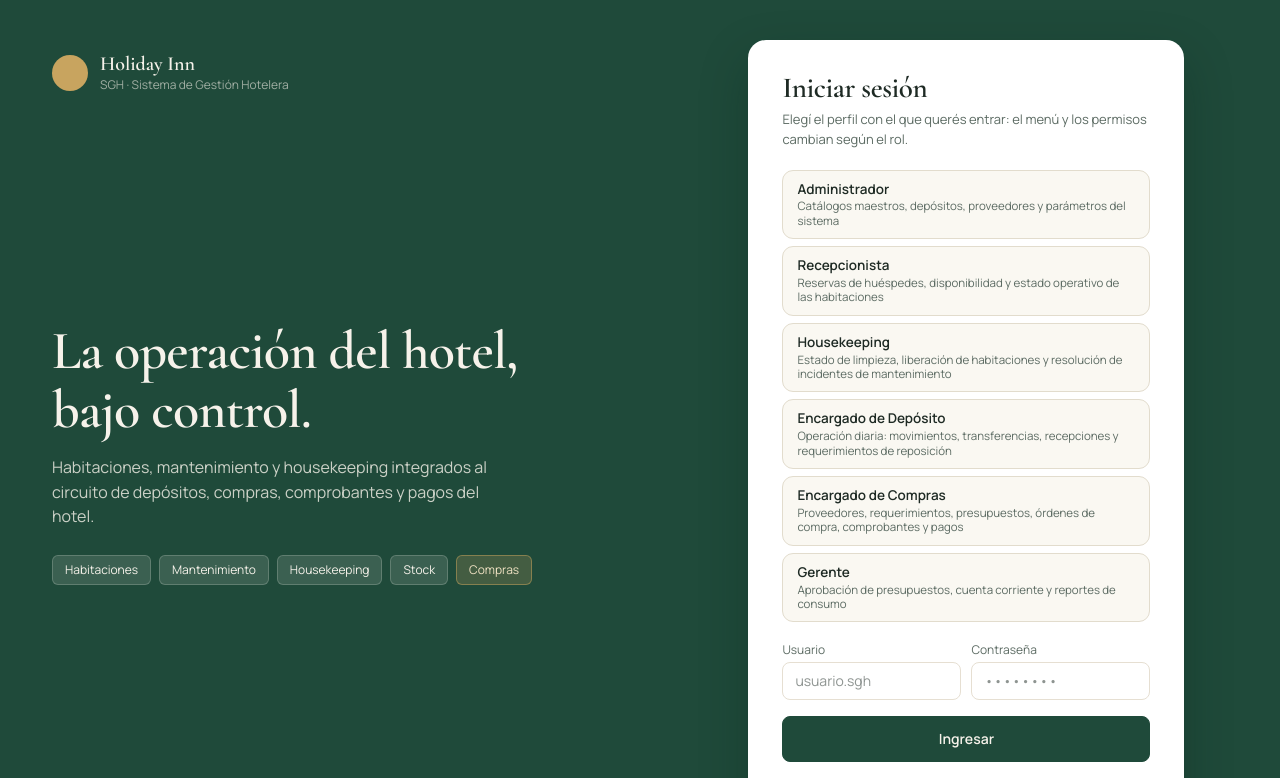
Test: LoginPage — mismo login de siempre, ahora validado de verdad › sin respuesta del servidor avisa que revise el backend
Click the button "Administrador" at (966, 204), box left=782, top=170, right=1150, bottom=239
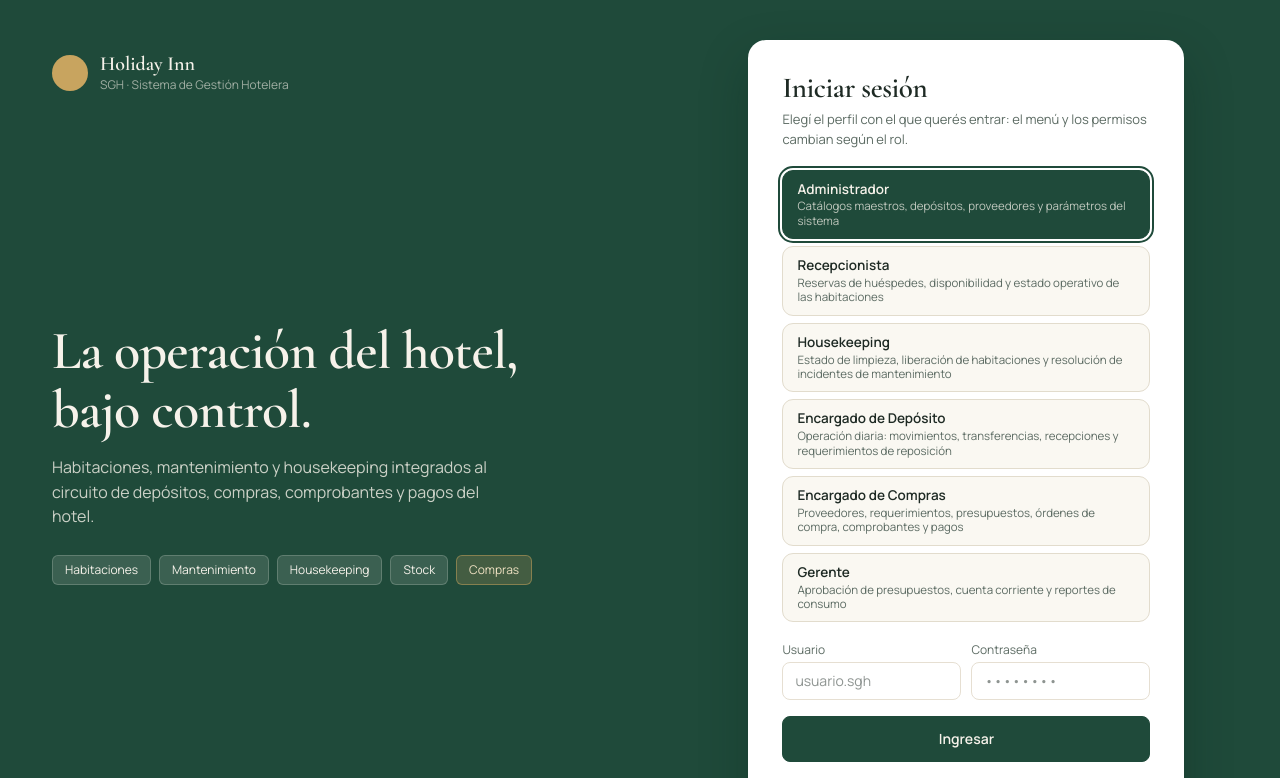
Type "admin" into the field with placeholder "usuario.sgh" at (872, 681), box left=782, top=662, right=961, bottom=700
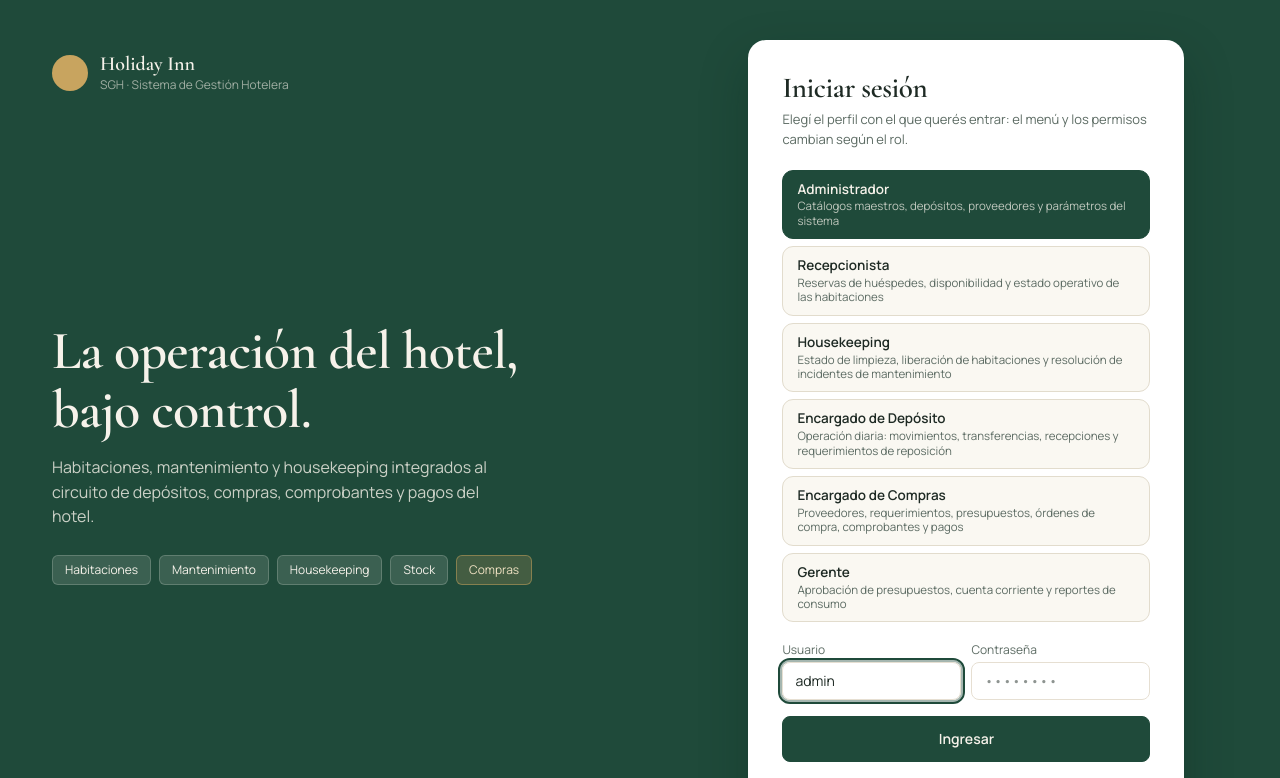
Type "clave-de-prueba-123" into the password field with placeholder "••••••••" at (1061, 681), box left=971, top=662, right=1150, bottom=700
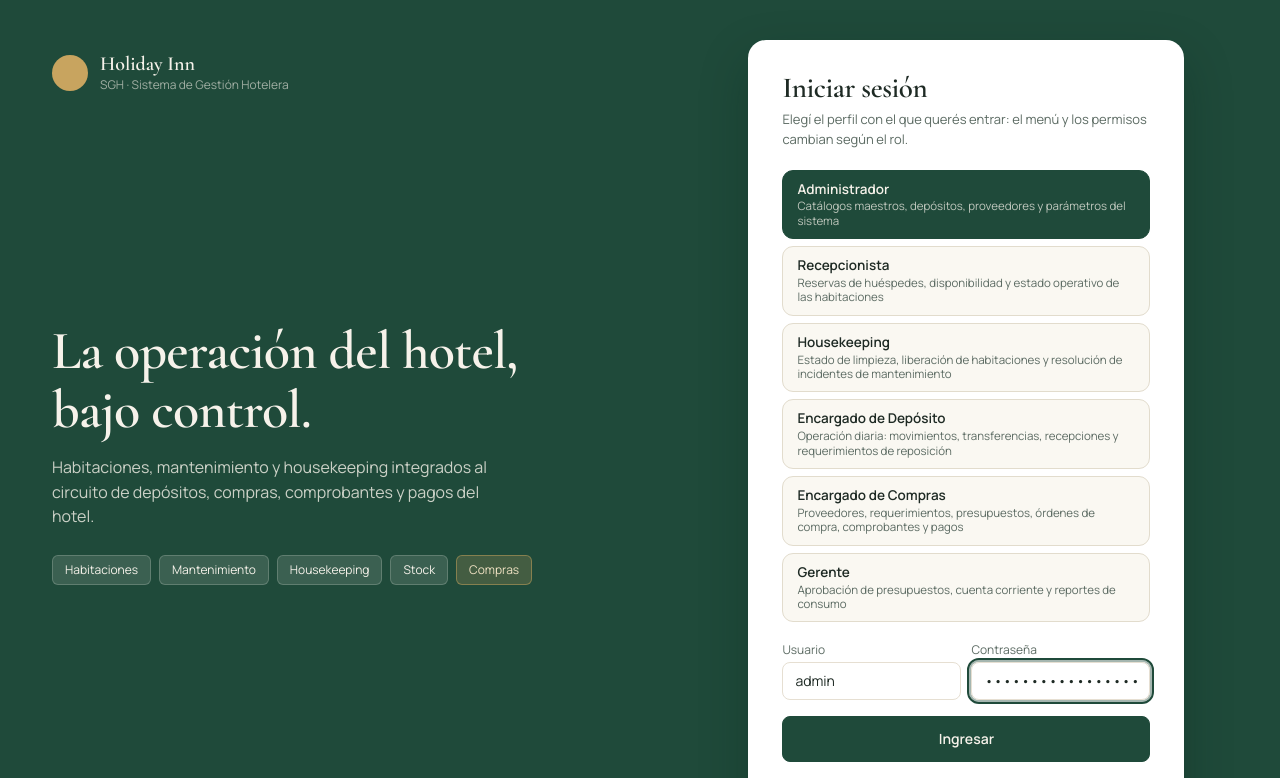
Click the button "Ingresar" at (966, 739), box left=782, top=716, right=1150, bottom=762
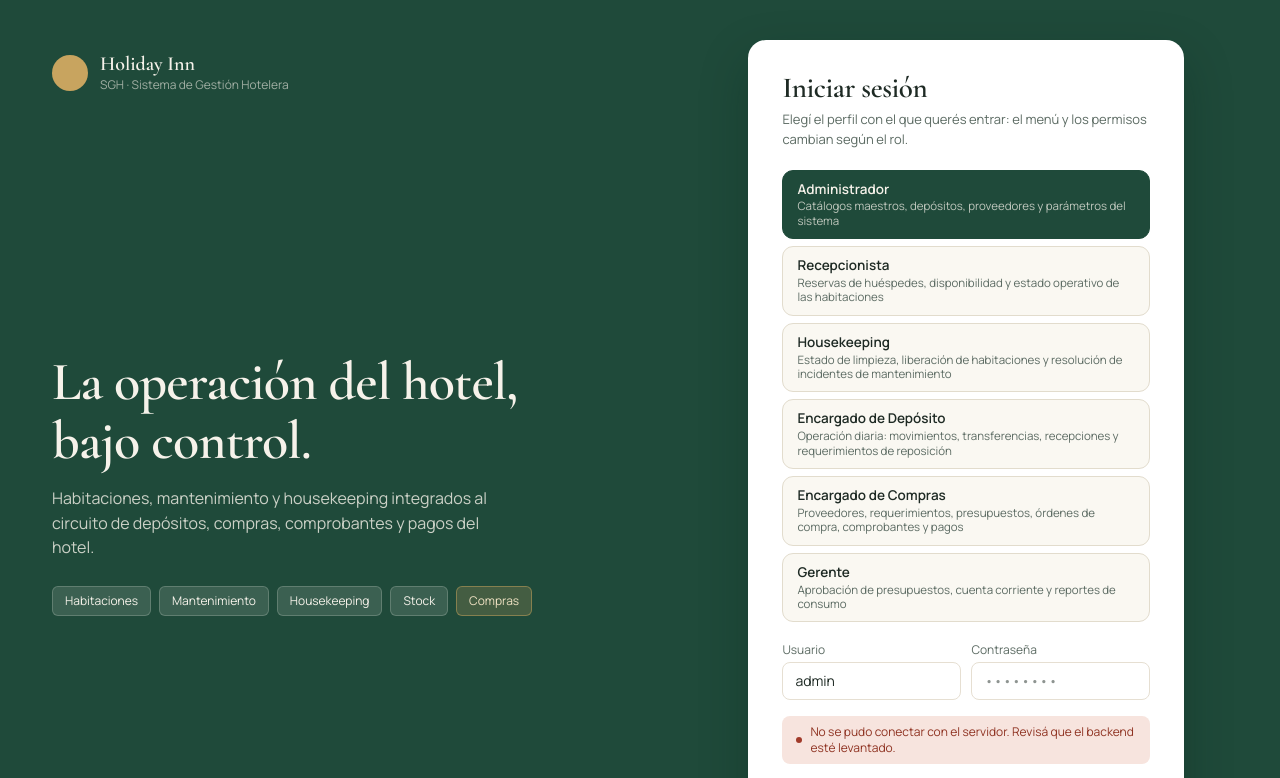
expect the text "No se pudo conectar con el servidor" is shown: met, box left=810, top=723, right=1134, bottom=756
